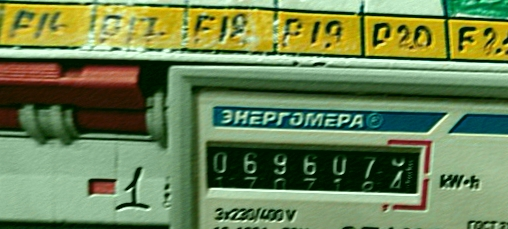0: (213, 148, 231, 172), (333, 150, 349, 175)
4: (390, 166, 407, 191)
6: (243, 149, 261, 173), (303, 150, 321, 174)
7: (363, 152, 379, 179)
9: (273, 150, 290, 174)
screen: (194, 125, 438, 207)
